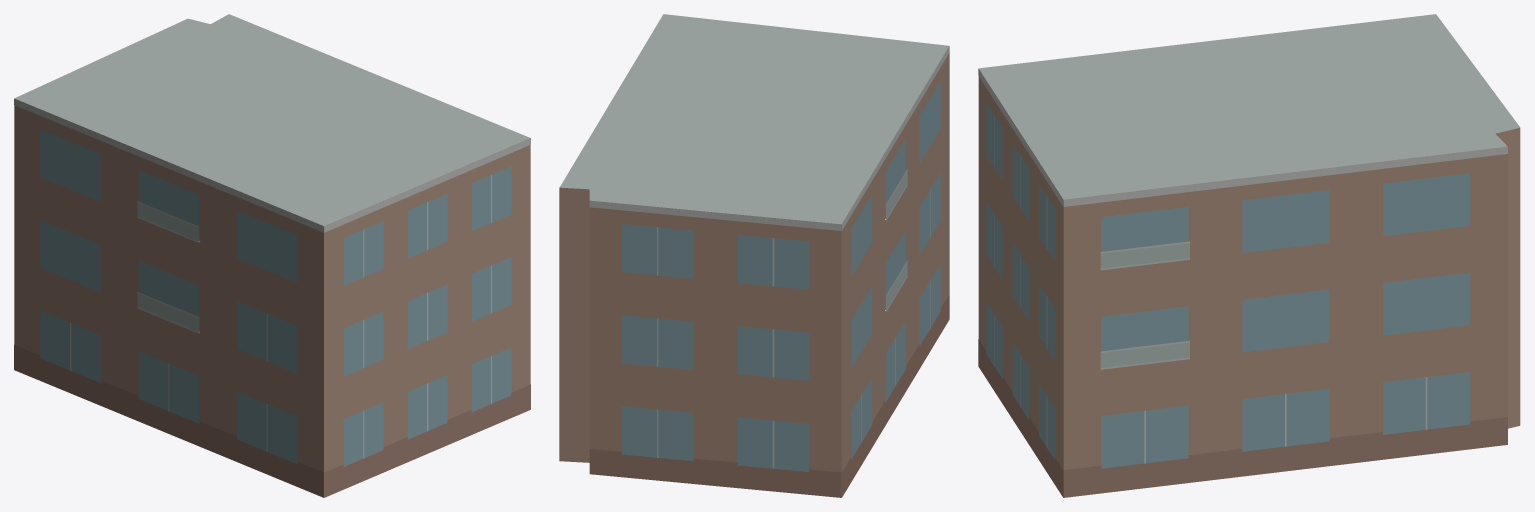
The model's file is survey-upis-32861874.glb.
3 renders of one model, left to right at view 1: azimuth 30°, elevation 25°; view 2: azimuth 150°, elevation 25°; view 3: azimuth 270°, elevation 25°, orthographic. The views are drawn at different scales.
Parts seen in each view (by area): view 1: survey-upis-32861874.tmp; view 2: survey-upis-32861874.tmp; view 3: survey-upis-32861874.tmp.
Part boxes in pixels (x1,y1,x2,y2): survey-upis-32861874.tmp: (14,14,530,497); survey-upis-32861874.tmp: (559,14,949,497); survey-upis-32861874.tmp: (978,14,1520,497).
Bounding box in the file's own units: 13.37 × 10 × 16.49.
